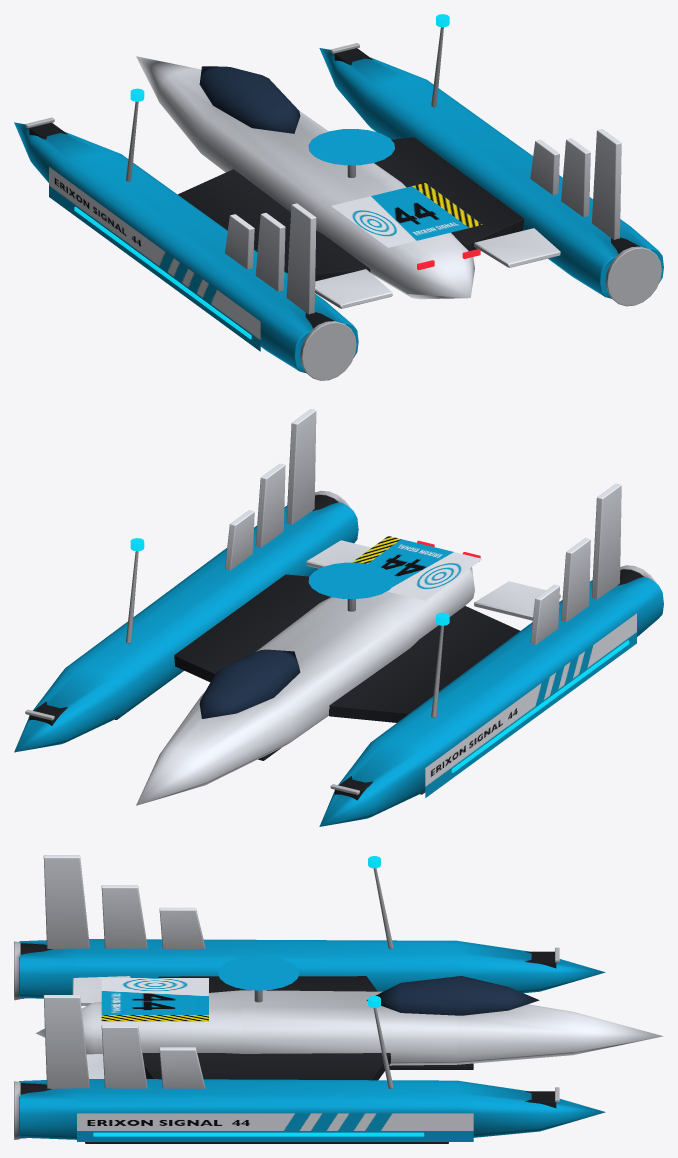
Rendered from craft_5.glb.
The picture shows the model from 3 angles, top to bottom: view 1: azimuth 30°, elevation 25°; view 2: azimuth 150°, elevation 25°; view 3: azimuth 270°, elevation 25°; orthographic projection. The views are drawn at different scales.
Visible parts, largest first — view 1: craft_5_body, craft_5_hull_L, craft_5_livery, craft_5_canopy, flap_R_plate.005, flap_L_plate.005; view 2: craft_5_body, craft_5_hull_L, craft_5_canopy, craft_5_livery, flap_L_plate.005, flap_R_plate.005; view 3: craft_5_body, craft_5_hull_R, craft_5_livery, craft_5_canopy, flap_L_plate.005.
Boxes of the visible parts, bbox=[...] form: craft_5_body: bbox=[14, 14, 663, 380]; craft_5_hull_L: bbox=[49, 167, 260, 351]; craft_5_livery: bbox=[331, 183, 482, 247]; craft_5_canopy: bbox=[199, 66, 300, 133]; flap_R_plate.005: bbox=[474, 228, 560, 267]; flap_L_plate.005: bbox=[315, 269, 392, 308]; craft_5_body: bbox=[14, 409, 663, 826]; craft_5_hull_L: bbox=[425, 613, 636, 797]; craft_5_canopy: bbox=[199, 649, 300, 718]; craft_5_livery: bbox=[352, 536, 482, 600]; flap_L_plate.005: bbox=[474, 581, 560, 620]; flap_R_plate.005: bbox=[306, 540, 371, 568]; craft_5_body: bbox=[14, 855, 662, 1143]; craft_5_hull_R: bbox=[77, 1113, 473, 1141]; craft_5_livery: bbox=[101, 978, 208, 1021]; craft_5_canopy: bbox=[366, 976, 539, 1015]; flap_L_plate.005: bbox=[72, 976, 130, 1006].
Bounding box in the file's own units: 4.97 × 1.89 × 7.86.
11 materials, 2 textured.
